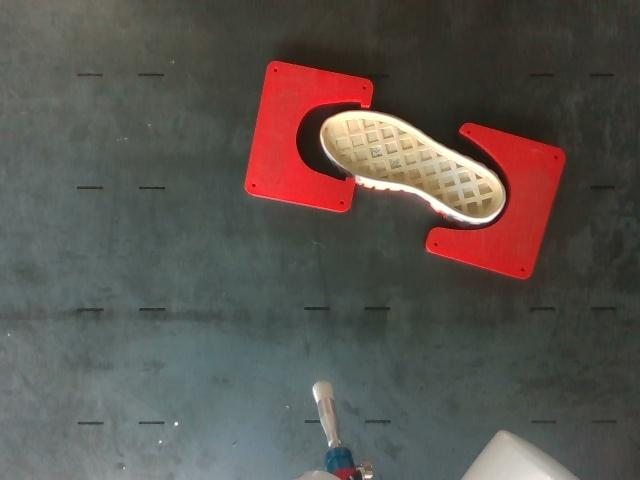shoes: (321, 112, 504, 219)
